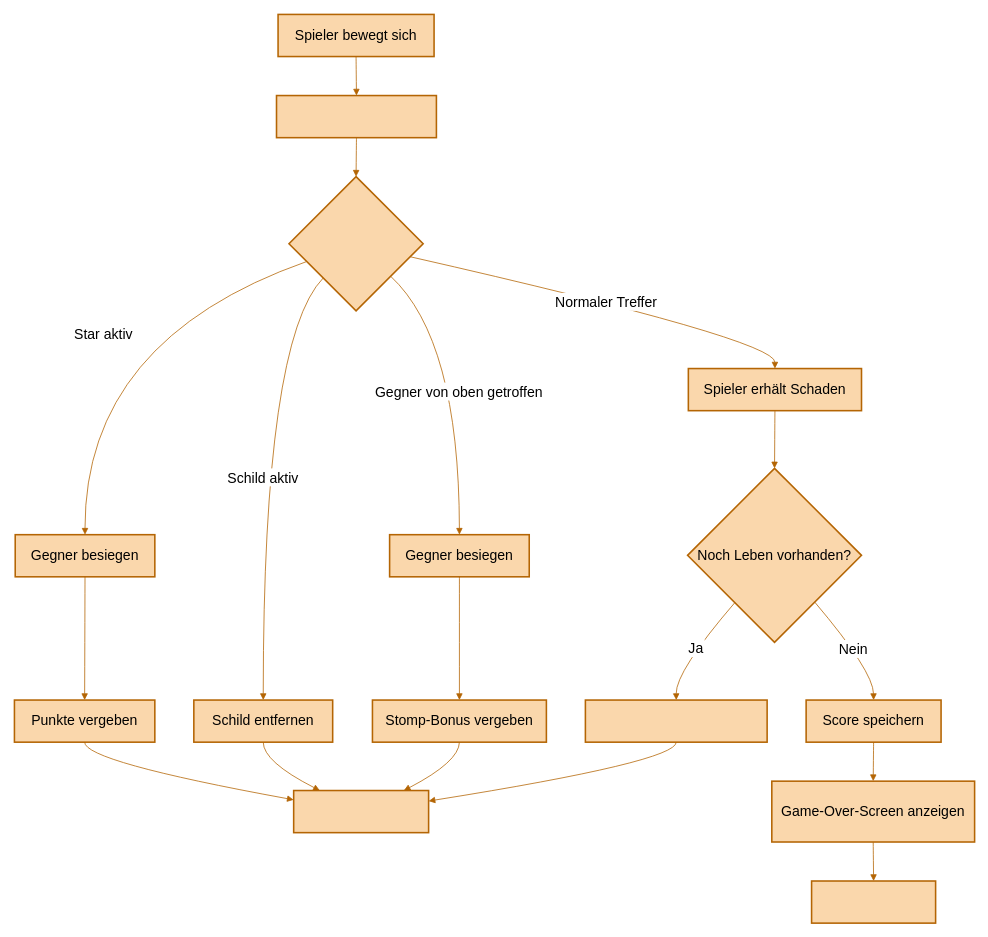
The diagram is 988 pixels wide and 937 high, and some of its shapes have lost their labels. Each missing label, with the centre of its shape:
Aktiver Zustand?: pixel 356 243
Kollision mit Gegner: pixel 356 116
Respawn am Checkpoint: pixel 676 721
Spiel beendet: pixel 873 902
Spiel fortsetzen: pixel 360 811
